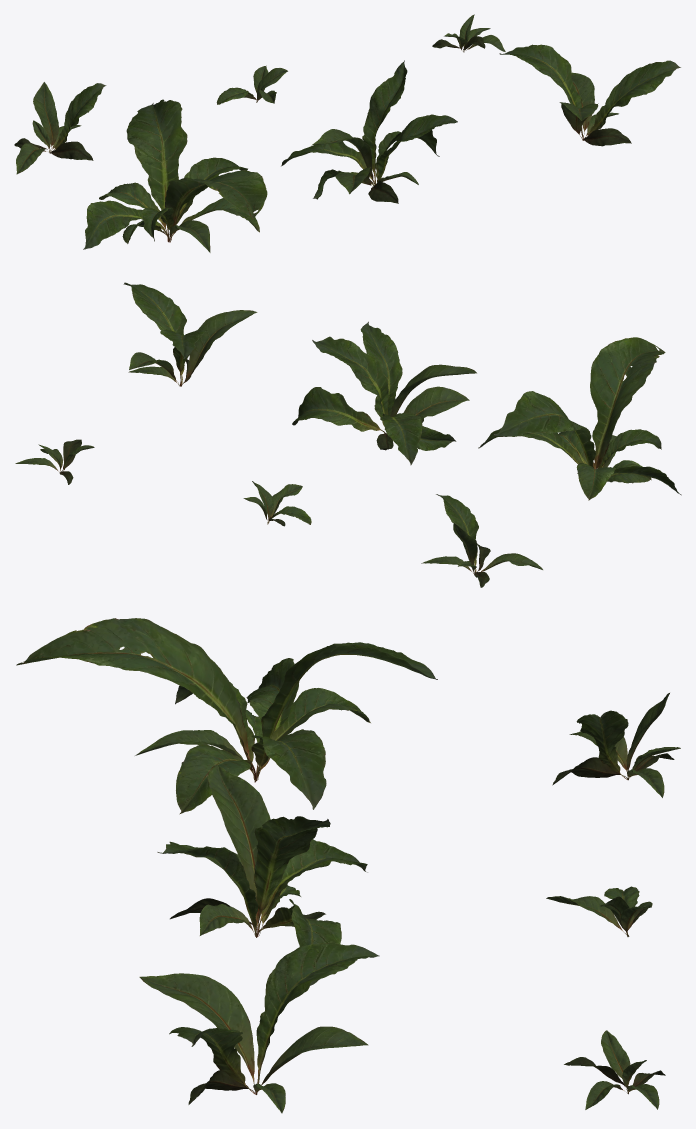
The model's file is foliage.glb.
3 views of the same model, one above another, from view 1: azimuth 30°, elevation 25°; view 2: azimuth 150°, elevation 25°; view 3: azimuth 270°, elevation 25° (orthographic). The views are drawn at different scales.
Parts seen in each view (by area): view 1: anthurium_botany_01_a, anthurium_botany_01_b, anthurium_botany_01_c, anthurium_botany_04_d, anthurium_botany_05_e, anthurium_botany_06_f; view 2: anthurium_botany_01_a, anthurium_botany_01_b, anthurium_botany_01_c, anthurium_botany_04_d, anthurium_botany_05_e, anthurium_botany_06_f; view 3: anthurium_botany_01_a, anthurium_botany_01_b, anthurium_botany_01_c, anthurium_botany_04_d, anthurium_botany_06_f, anthurium_botany_05_e.
Boxes of the visible parts, box(x1,y1,x2,y2) form: anthurium_botany_01_a: box(83, 99, 267, 252); anthurium_botany_01_b: box(281, 60, 457, 203); anthurium_botany_01_c: box(499, 44, 680, 146); anthurium_botany_04_d: box(14, 82, 106, 174); anthurium_botany_05_e: box(216, 65, 287, 104); anthurium_botany_06_f: box(432, 14, 505, 52); anthurium_botany_01_a: box(478, 337, 681, 500); anthurium_botany_01_b: box(292, 321, 476, 465); anthurium_botany_01_c: box(123, 282, 257, 386); anthurium_botany_04_d: box(421, 494, 542, 587); anthurium_botany_05_e: box(243, 481, 311, 526); anthurium_botany_06_f: box(15, 439, 94, 484); anthurium_botany_01_a: box(16, 618, 437, 814); anthurium_botany_01_b: box(157, 764, 367, 985); anthurium_botany_01_c: box(139, 942, 379, 1113); anthurium_botany_04_d: box(552, 693, 680, 797); anthurium_botany_06_f: box(564, 1030, 665, 1109); anthurium_botany_05_e: box(546, 886, 652, 936).
Size of the model in its own units: 2.8 by 0.4996 by 1.8.
Materials: 1 (1 with a texture image).
